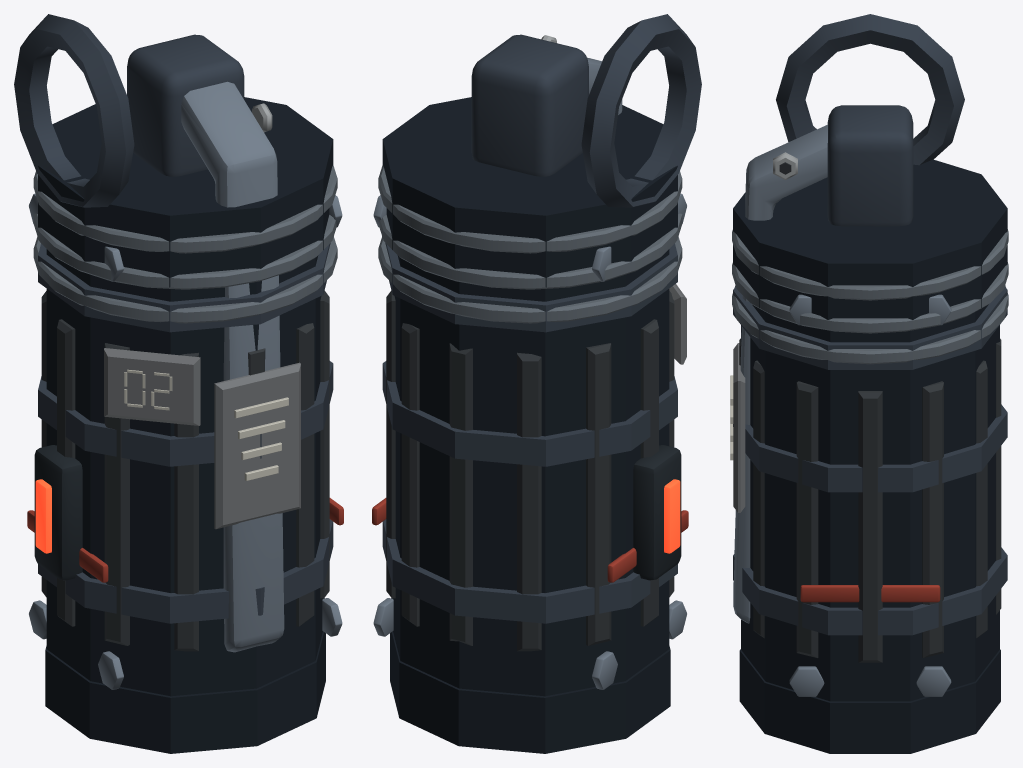
The model's file is grenade.glb.
The picture shows the model from 3 angles, left to right: view 1: azimuth 30°, elevation 25°; view 2: azimuth 150°, elevation 25°; view 3: azimuth 270°, elevation 25°; orthographic projection. The views are drawn at different scales.
Visible parts, largest first — view 1: body, spoon, pin; view 2: body, pin; view 3: body, pin, spoon.
Boxes of the visible parts, left/top/right/bottom form: body: left=27, top=34, right=343, bottom=753; spoon: left=181, top=81, right=284, bottom=652; pin: left=14, top=14, right=134, bottom=207; body: left=372, top=34, right=688, bottom=753; pin: left=581, top=14, right=701, bottom=207; body: left=730, top=105, right=1008, bottom=753; pin: left=776, top=14, right=964, bottom=165; spoon: left=733, top=124, right=827, bottom=623.
Size of the model in its own units: 0.1201 by 0.29 by 0.1148.
